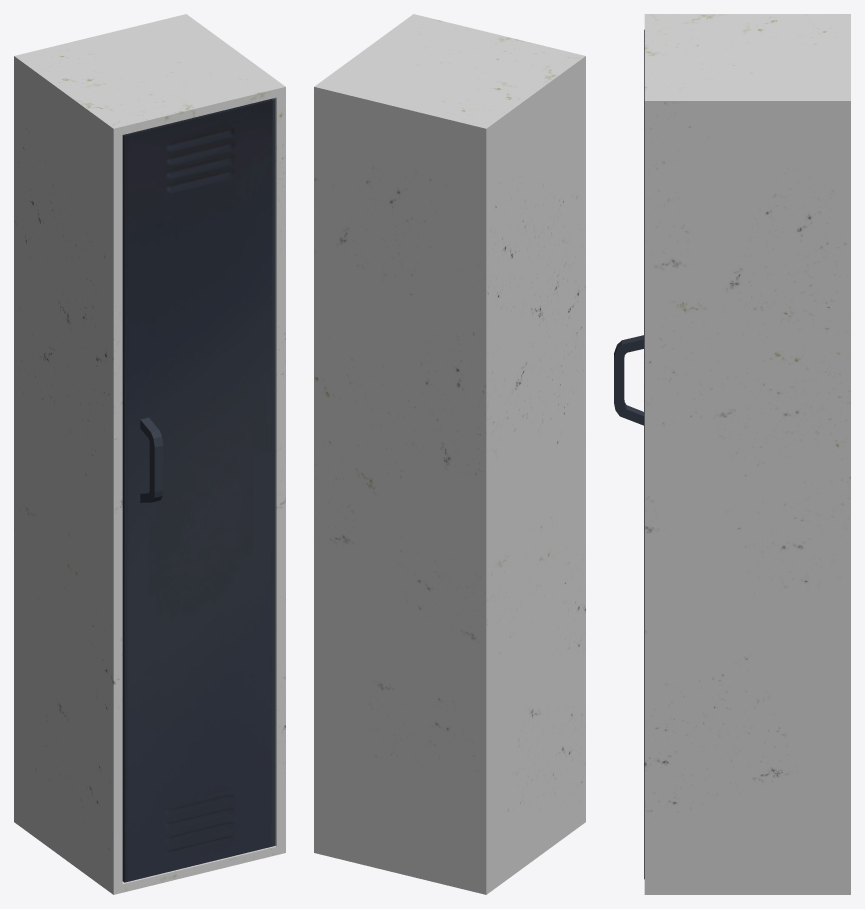
Rendered from LockerModel.fbx.
The picture shows the model from 3 angles, left to right: view 1: azimuth 30°, elevation 25°; view 2: azimuth 150°, elevation 25°; view 3: azimuth 270°, elevation 25°; orthographic projection. The views are drawn at different scales.
Visible parts, largest first — view 1: LockerDeur, Locker_Locker; view 2: Locker_Locker; view 3: Locker_Locker, LockerDeur.
Part boxes in pixels (bbox=[...]): LockerDeur: bbox=[122, 98, 275, 882]; Locker_Locker: bbox=[14, 14, 285, 894]; Locker_Locker: bbox=[314, 14, 585, 894]; Locker_Locker: bbox=[644, 14, 850, 894]; LockerDeur: bbox=[614, 29, 644, 879].
Size of the model in its own units: 40 by 170 by 45.93.
